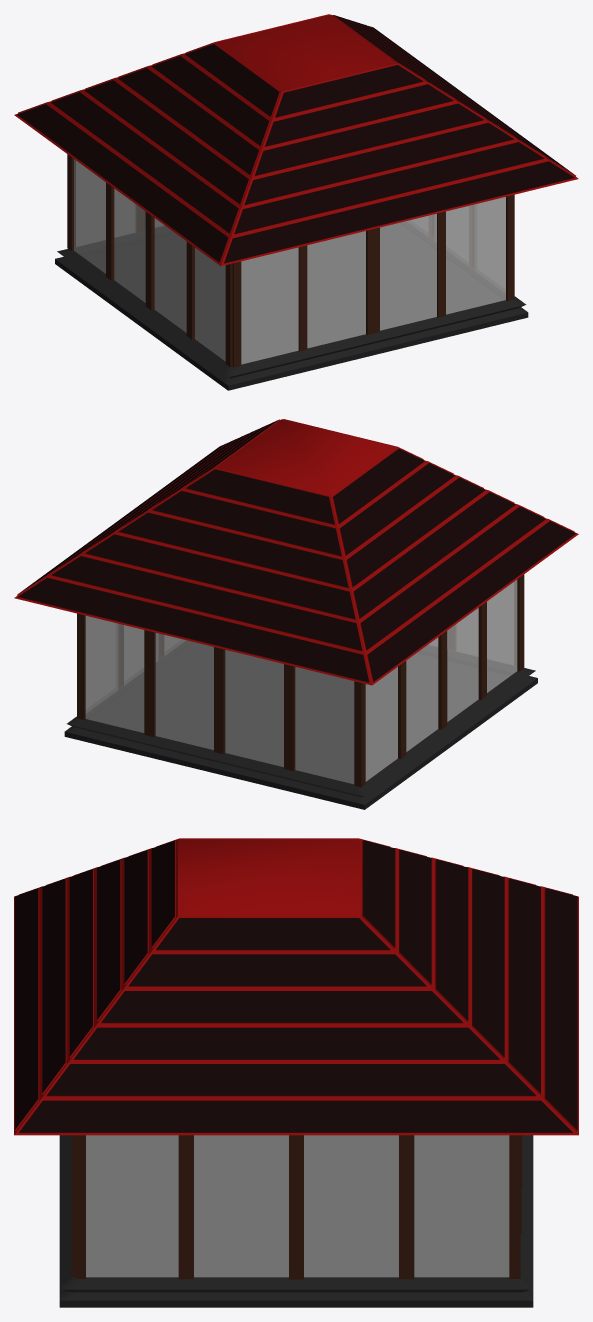
Rendered from Choza_1.fbx.
3 views of the same model, one above another, from view 1: azimuth 30°, elevation 25°; view 2: azimuth 150°, elevation 25°; view 3: azimuth 270°, elevation 25° (orthographic). The views are drawn at different scales.
Visible parts, largest first — view 1: Choza_1; view 2: Choza_1; view 3: Choza_1.
Part boxes in pixels (<box>): Choza_1: <box>14,14,578,390</box>; Choza_1: <box>14,419,578,809</box>; Choza_1: <box>14,838,578,1307</box>.
Size of the model in its own units: 1878 by 1222 by 1878.
